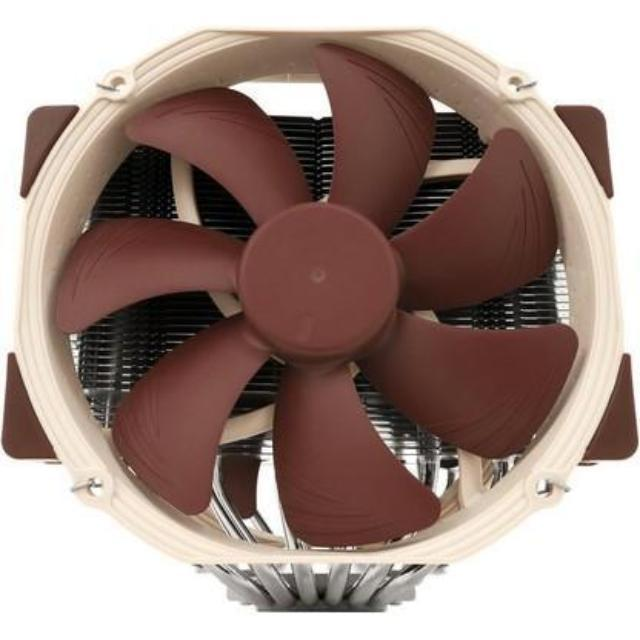CPU_Fan: (7, 19, 638, 616)
